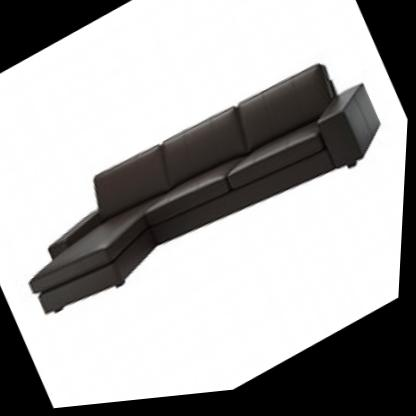Sofa: (0, 21, 411, 363)
